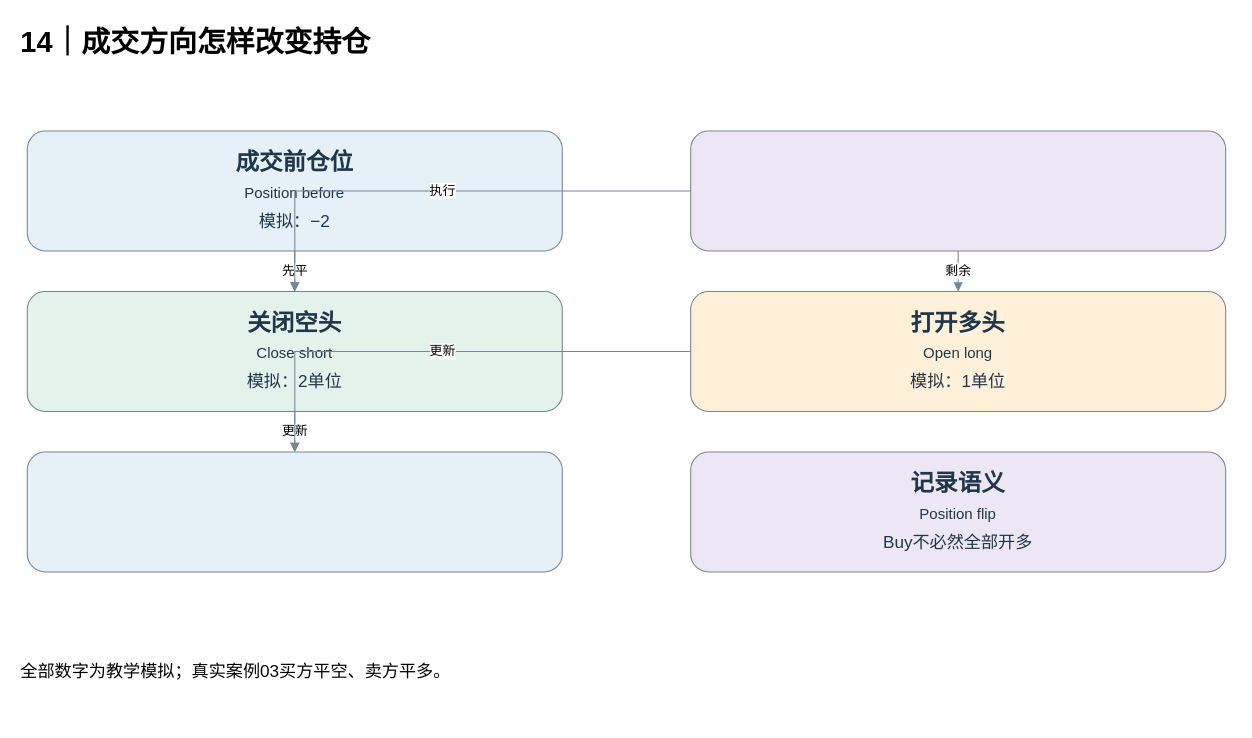
The diagram is 1252 pixels wide and 738 high, and some of its shapes have lost their labels. Here are the shapes that lost their labels. From the top down, the box of each, then its label:
(690, 130, 1226, 251): 普通买入 Buy fill 模拟：+3
(26, 451, 562, 572): 成交后仓位 Position after 模拟：+1
